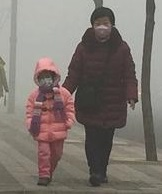person: (62, 5, 139, 188), (23, 58, 76, 188)
